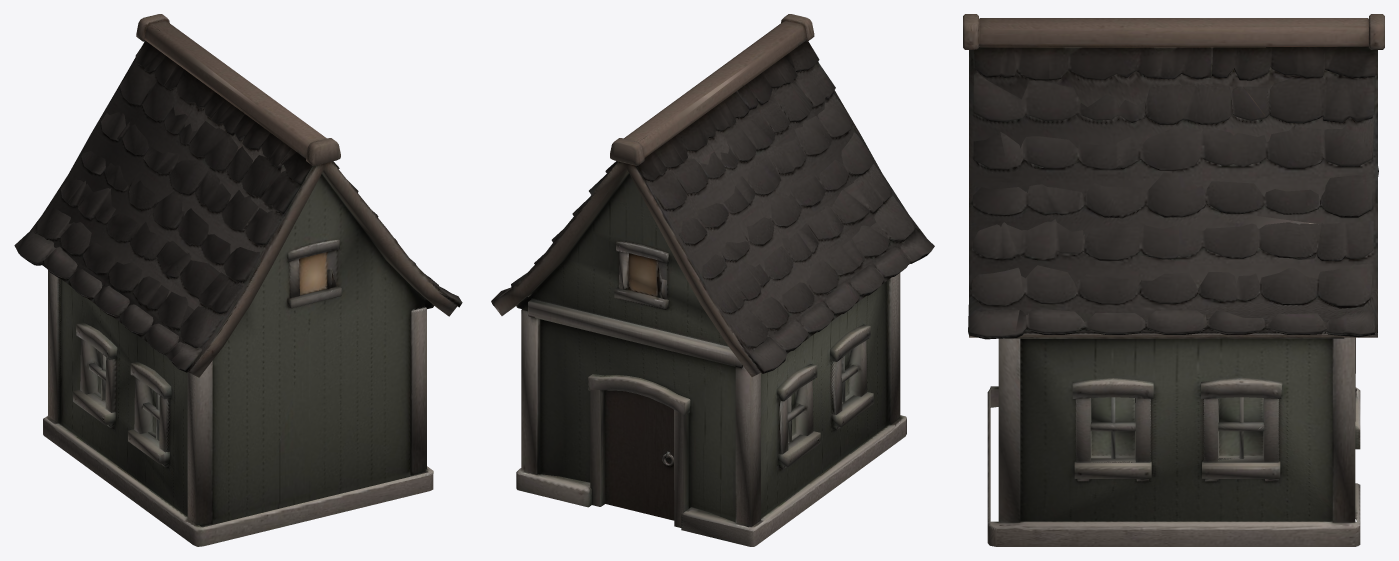
Rendered from s_house1.glb.
3 renders of one model, left to right at view 1: azimuth 30°, elevation 25°; view 2: azimuth 150°, elevation 25°; view 3: azimuth 270°, elevation 25°, orthographic. The views are drawn at different scales.
Visible parts, largest first — view 1: tripo_node_1c3a72ba; view 2: tripo_node_1c3a72ba; view 3: tripo_node_1c3a72ba.
Boxes of the visible parts, x1,y1,x2,y2 form: tripo_node_1c3a72ba: [14, 14, 462, 546]; tripo_node_1c3a72ba: [491, 14, 934, 546]; tripo_node_1c3a72ba: [963, 14, 1384, 546].
Size of the model in its own units: 6.75 by 8.64 by 7.22.
1 material, 1 textured.
